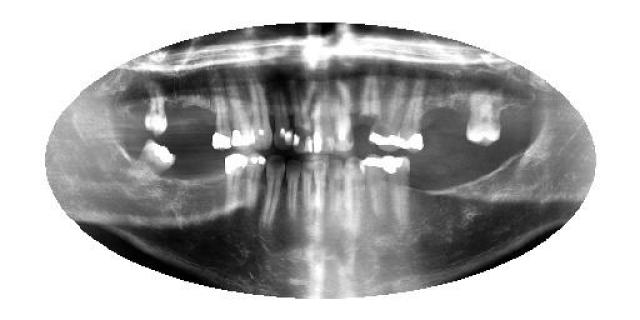Cavity: (360, 75, 380, 124)
Fillings: (370, 78, 409, 152), (128, 138, 178, 188), (225, 73, 255, 148), (395, 81, 427, 150), (385, 154, 413, 226), (208, 72, 232, 150), (362, 152, 388, 218), (224, 150, 246, 219), (246, 152, 268, 212)
